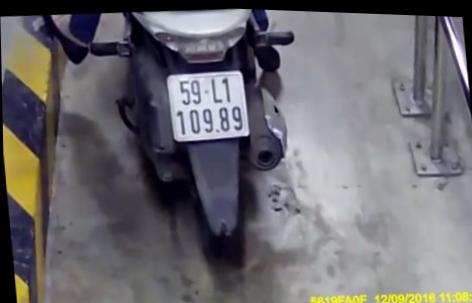LP: (163, 63, 251, 145)
